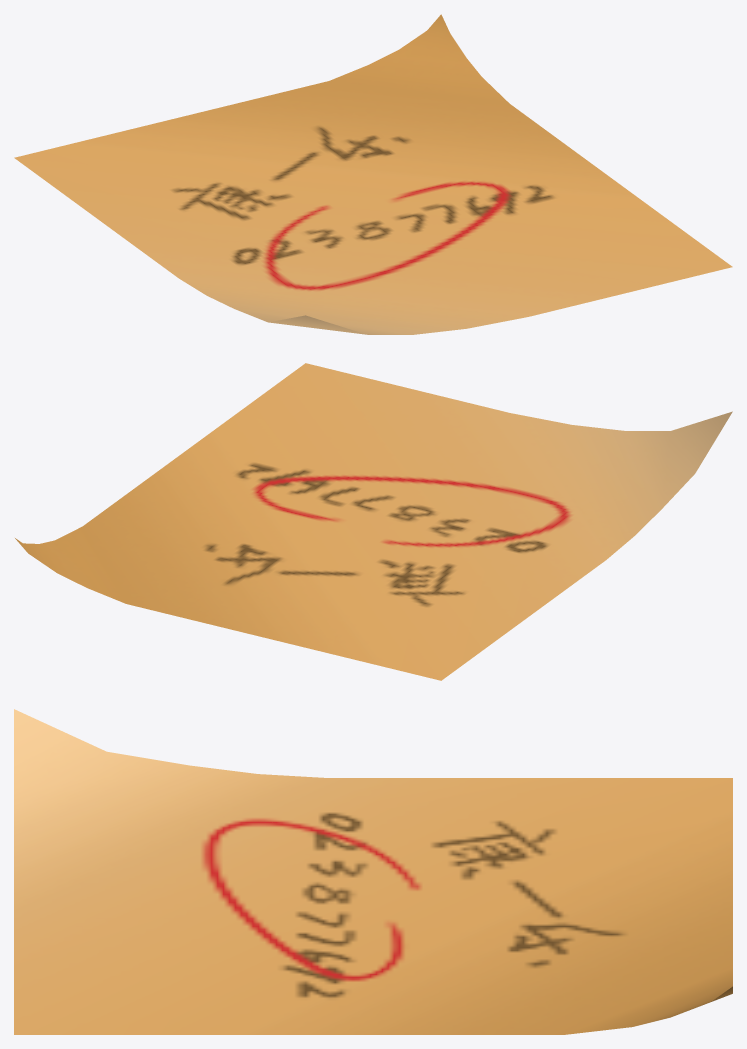
File: BianQianTiao.FBX
3 renders of one model, top to bottom at view 1: azimuth 30°, elevation 25°; view 2: azimuth 150°, elevation 25°; view 3: azimuth 270°, elevation 25°, orthographic. The views are drawn at different scales.
Parts seen in each view (by area): view 1: BianQianTiao; view 2: BianQianTiao; view 3: BianQianTiao.
Part boxes in pixels (x1,y1,x2,y2): BianQianTiao: [14, 14, 732, 334]; BianQianTiao: [15, 363, 732, 680]; BianQianTiao: [14, 709, 732, 1034].
Size of the model in its own units: 0.0678 by 0.00848 by 0.0802.
